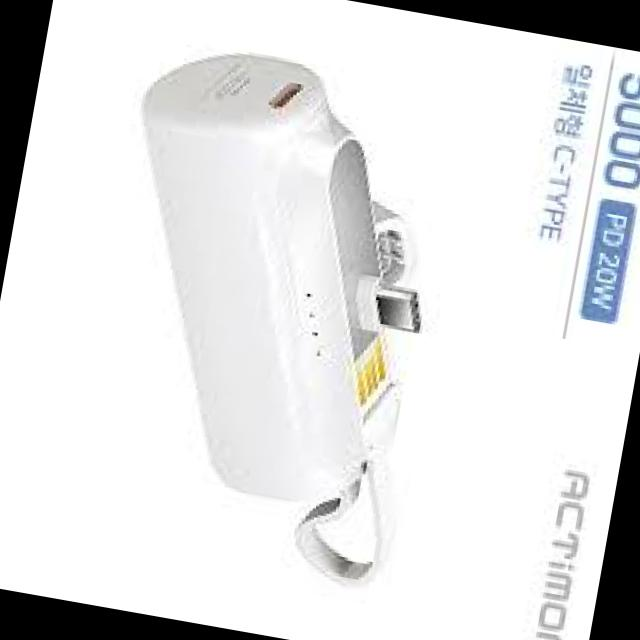portable-charger: (67, 31, 470, 532)
